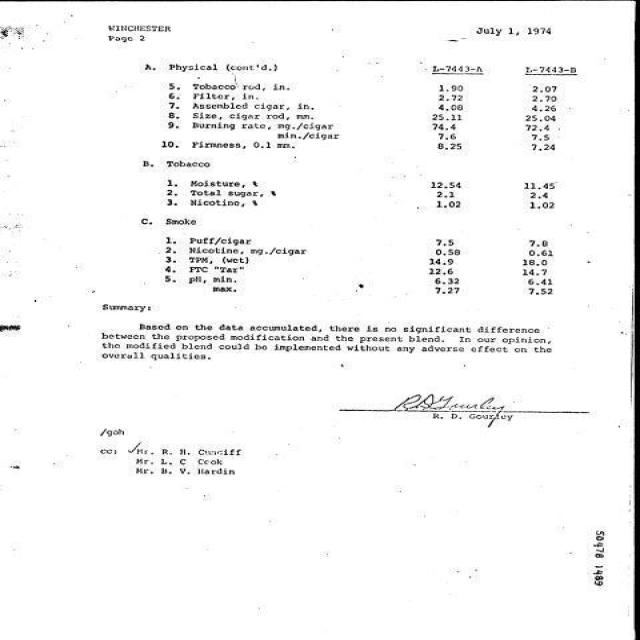signature: (396, 392, 503, 426)
